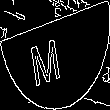M_N: (38, 24, 72, 86)
